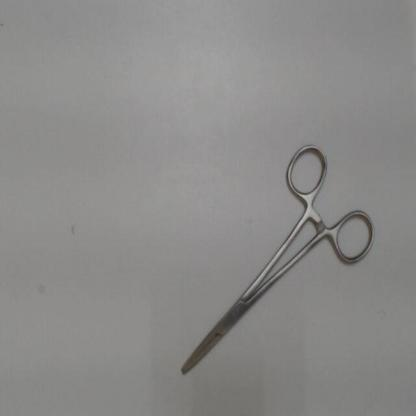Mayo Needle Holder: (173, 136, 384, 386)
